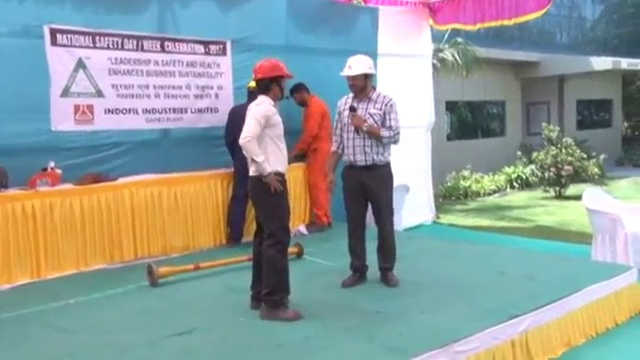helmet: (250, 56, 294, 81), (339, 53, 378, 78)
helmet_on: (248, 56, 293, 104), (339, 52, 379, 99)
person: (326, 51, 402, 289), (238, 56, 304, 323), (289, 79, 336, 234), (225, 80, 261, 247), (289, 79, 312, 108)
